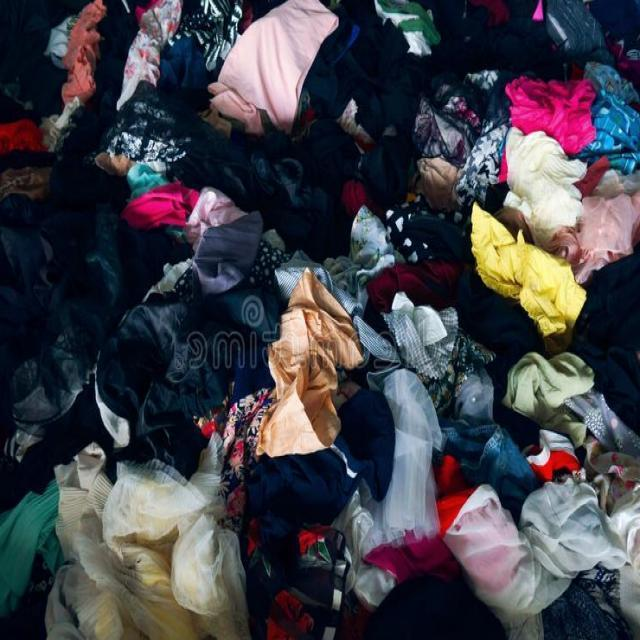clothes: (7, 110, 578, 544)
